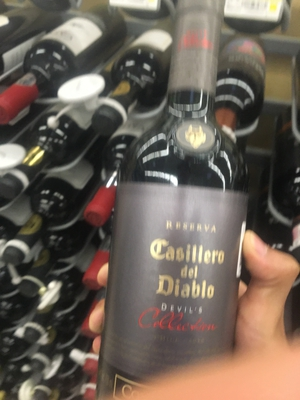casillero del diablo devils collection rojo: (108, 13, 258, 400)
